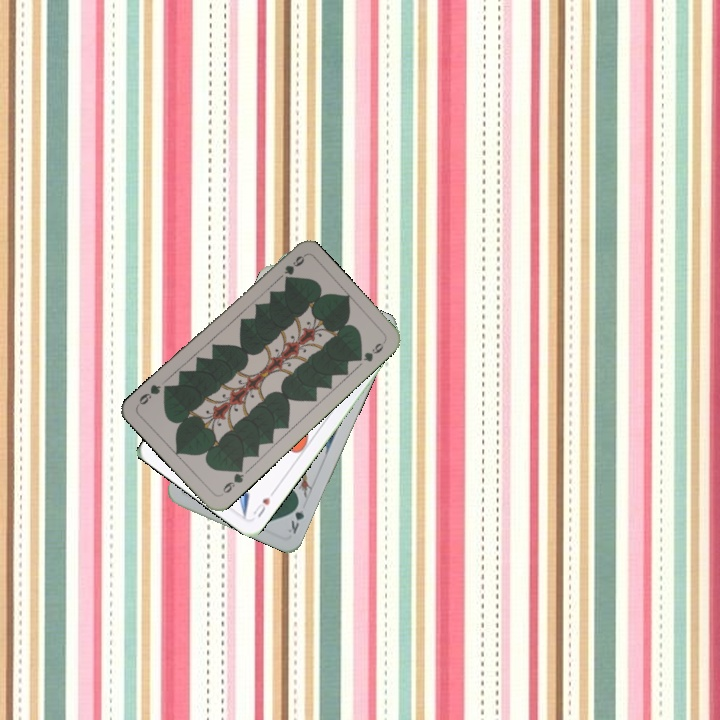G9: (217, 463, 247, 498), (280, 252, 307, 277)
GK: (284, 497, 307, 537)
HU: (248, 493, 273, 520)
